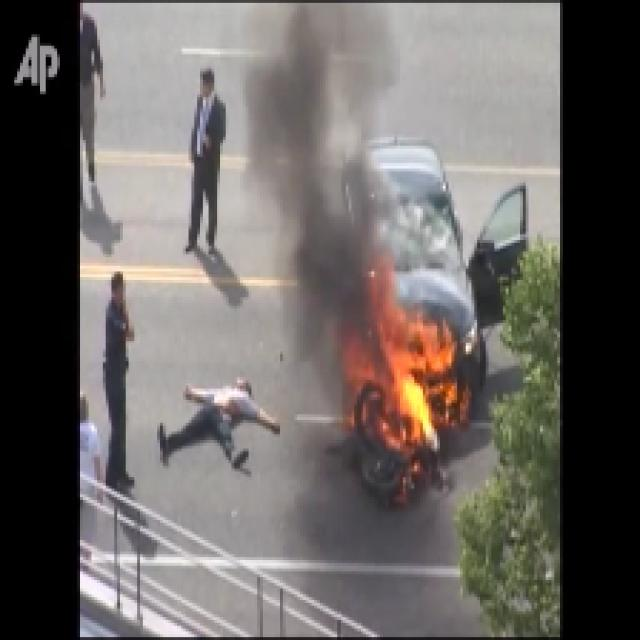fire: (378, 324, 439, 431)
smoke: (282, 39, 373, 336)
